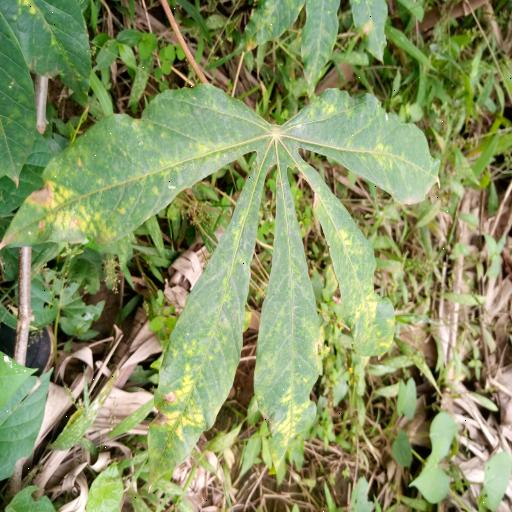Cassava_Mosaic: (0, 80, 443, 482)
